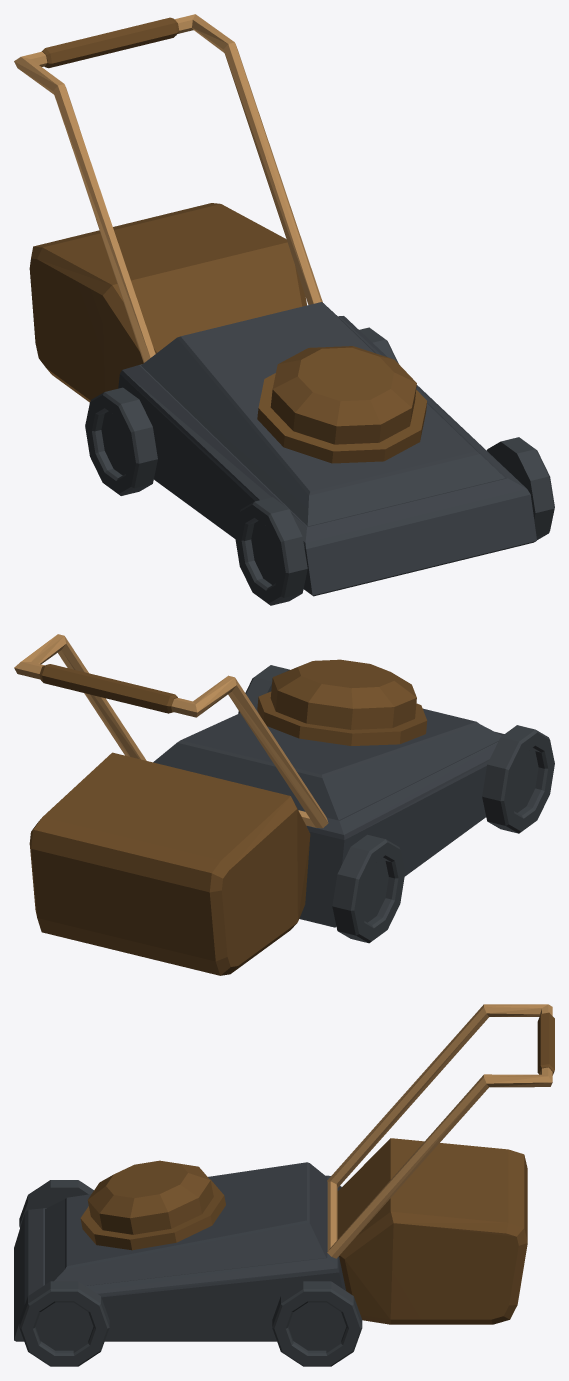
File: lawn_mower_a.gltf
The picture shows the model from 3 angles, top to bottom: view 1: azimuth 30°, elevation 25°; view 2: azimuth 150°, elevation 25°; view 3: azimuth 270°, elevation 25°; orthographic projection. The views are drawn at different scales.
Visible parts, largest first — view 1: lawn mower_a001; view 2: lawn mower_a001; view 3: lawn mower_a001.
Boxes of the visible parts, x1,y1,x2,y2 form: lawn mower_a001: (14,14,554,605); lawn mower_a001: (14,634,554,975); lawn mower_a001: (14,1004,554,1366).
Bounding box in the file's own units: 0.6098 × 0.7024 × 1.26.
Materials: 1 (1 with a texture image).
